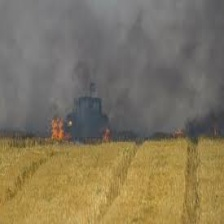smoke: (1, 1, 224, 140)
